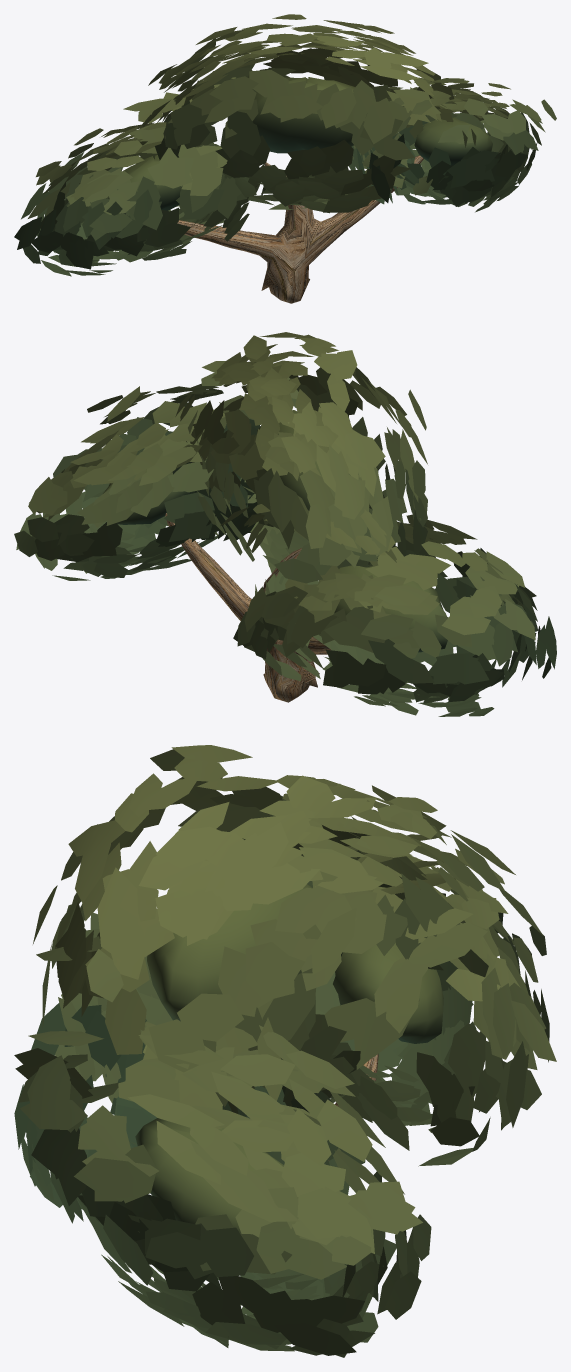
Rendered from valley-grove-shrub.glb.
3 views of the same model, one above another, from view 1: azimuth 30°, elevation 25°; view 2: azimuth 150°, elevation 25°; view 3: azimuth 270°, elevation 25° (orthographic). The views are drawn at different scales.
Parts seen in each view (by area): view 1: grove-crown-foliage, grove-living-wood; view 2: grove-crown-foliage, grove-living-wood; view 3: grove-crown-foliage.
Part boxes in pixels (bbox=[...]): grove-crown-foliage: bbox=[14, 14, 556, 276]; grove-living-wood: bbox=[177, 155, 423, 303]; grove-crown-foliage: bbox=[14, 332, 556, 716]; grove-living-wood: bbox=[165, 513, 330, 702]; grove-crown-foliage: bbox=[14, 745, 556, 1357].
Bounding box in the file's own units: 3.58 × 2.05 × 1.86.
2 materials, 1 textured.
